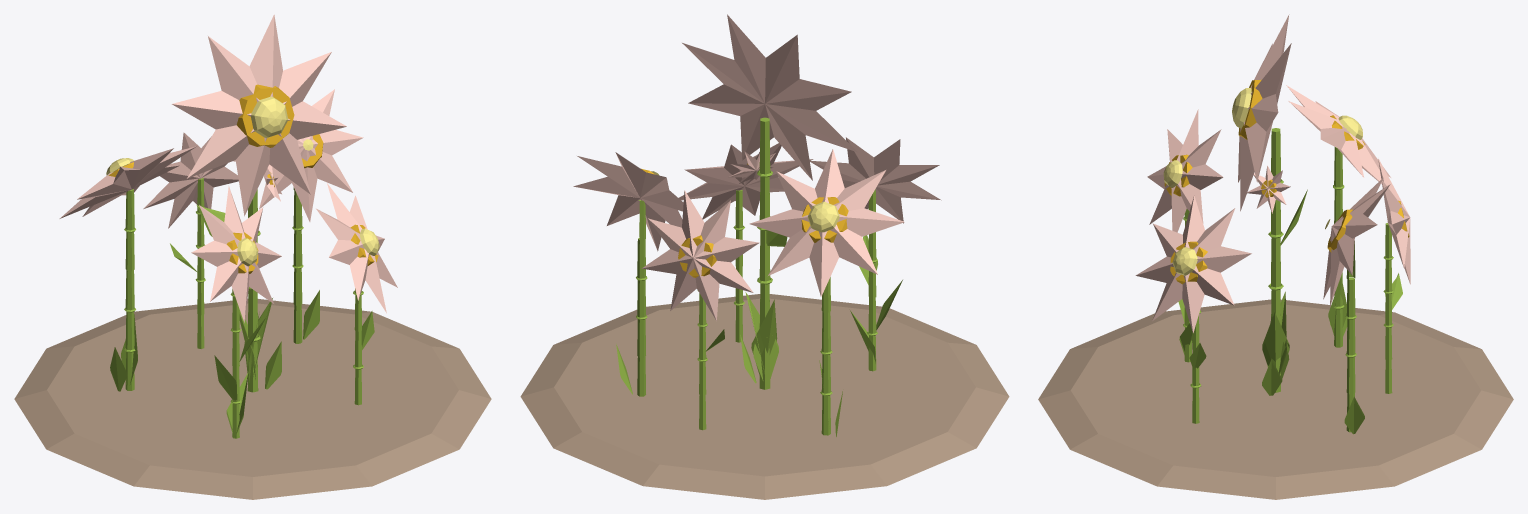
Rendered from FlowerBush.glb.
3 renders of one model, left to right at view 1: azimuth 30°, elevation 25°; view 2: azimuth 150°, elevation 25°; view 3: azimuth 270°, elevation 25°, orthographic. The views are drawn at different scales.
Visible parts, largest first — view 1: FlowerBush; view 2: FlowerBush; view 3: FlowerBush.
Part boxes in pixels (x1,y1,x2,y2): FlowerBush: (14,14,491,499); FlowerBush: (520,14,1009,499); FlowerBush: (1038,14,1513,499).
Size of the model in its own units: 1.33 by 1.14 by 1.33.
